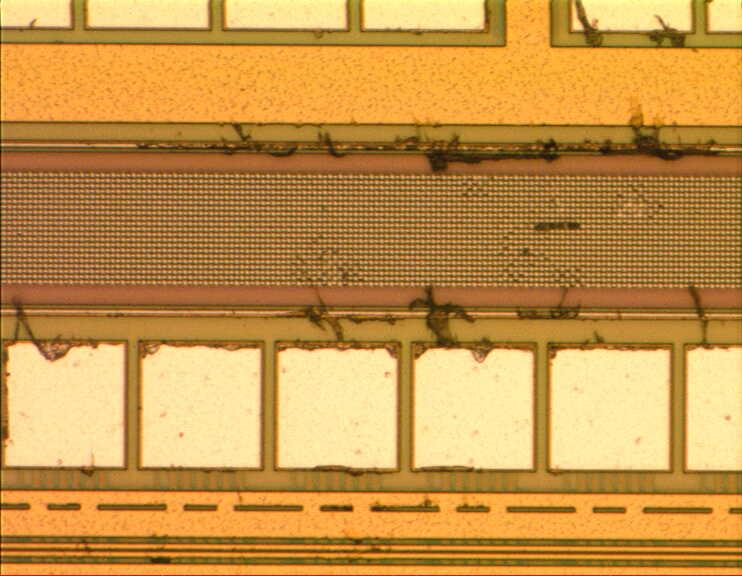PO CONTAMINATION: (1, 1, 738, 572)
